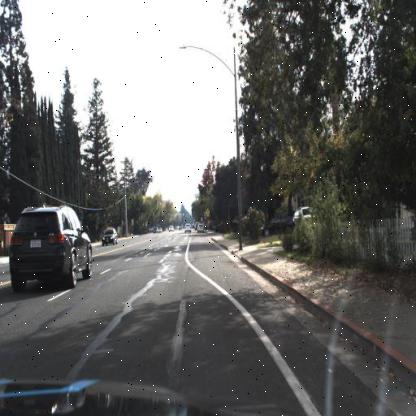car: (5, 197, 93, 293), (290, 205, 336, 235), (258, 212, 294, 242), (182, 220, 193, 235), (195, 222, 206, 233)
